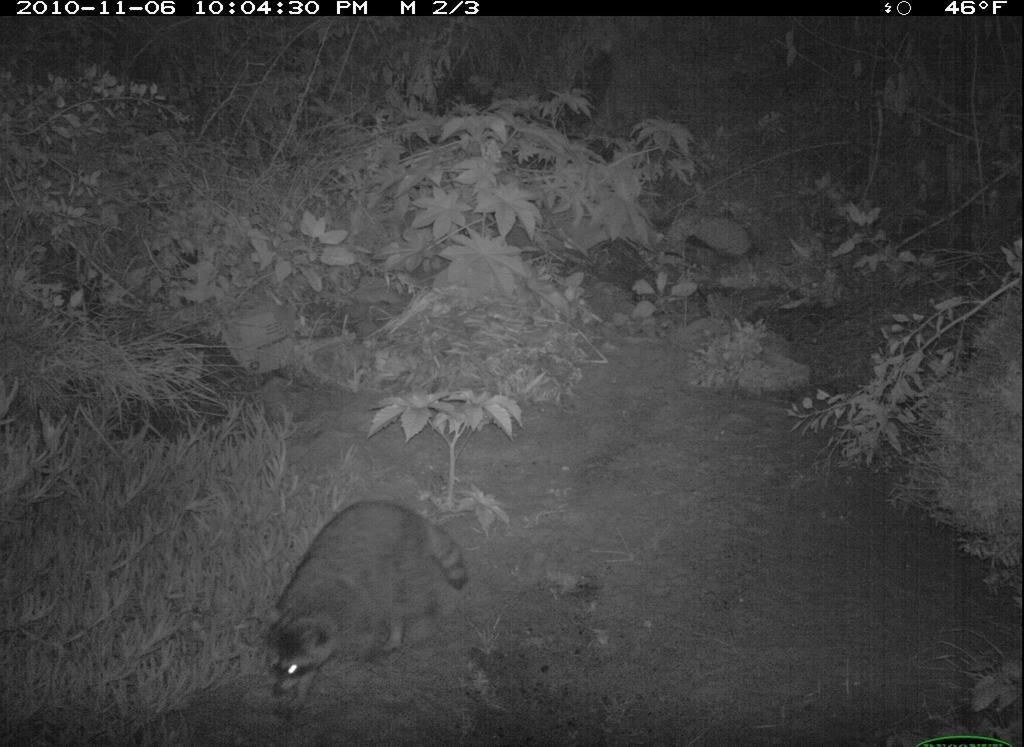raccoon: (253, 491, 474, 721)
